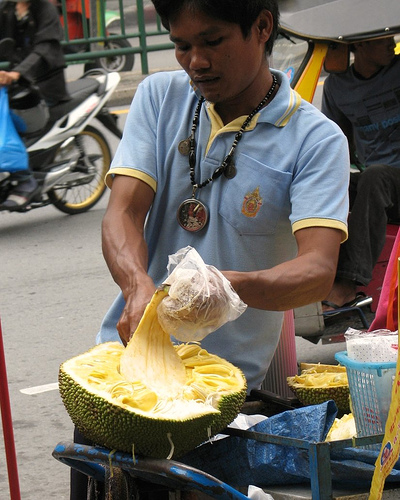jackfruit: (55, 283, 248, 455)
